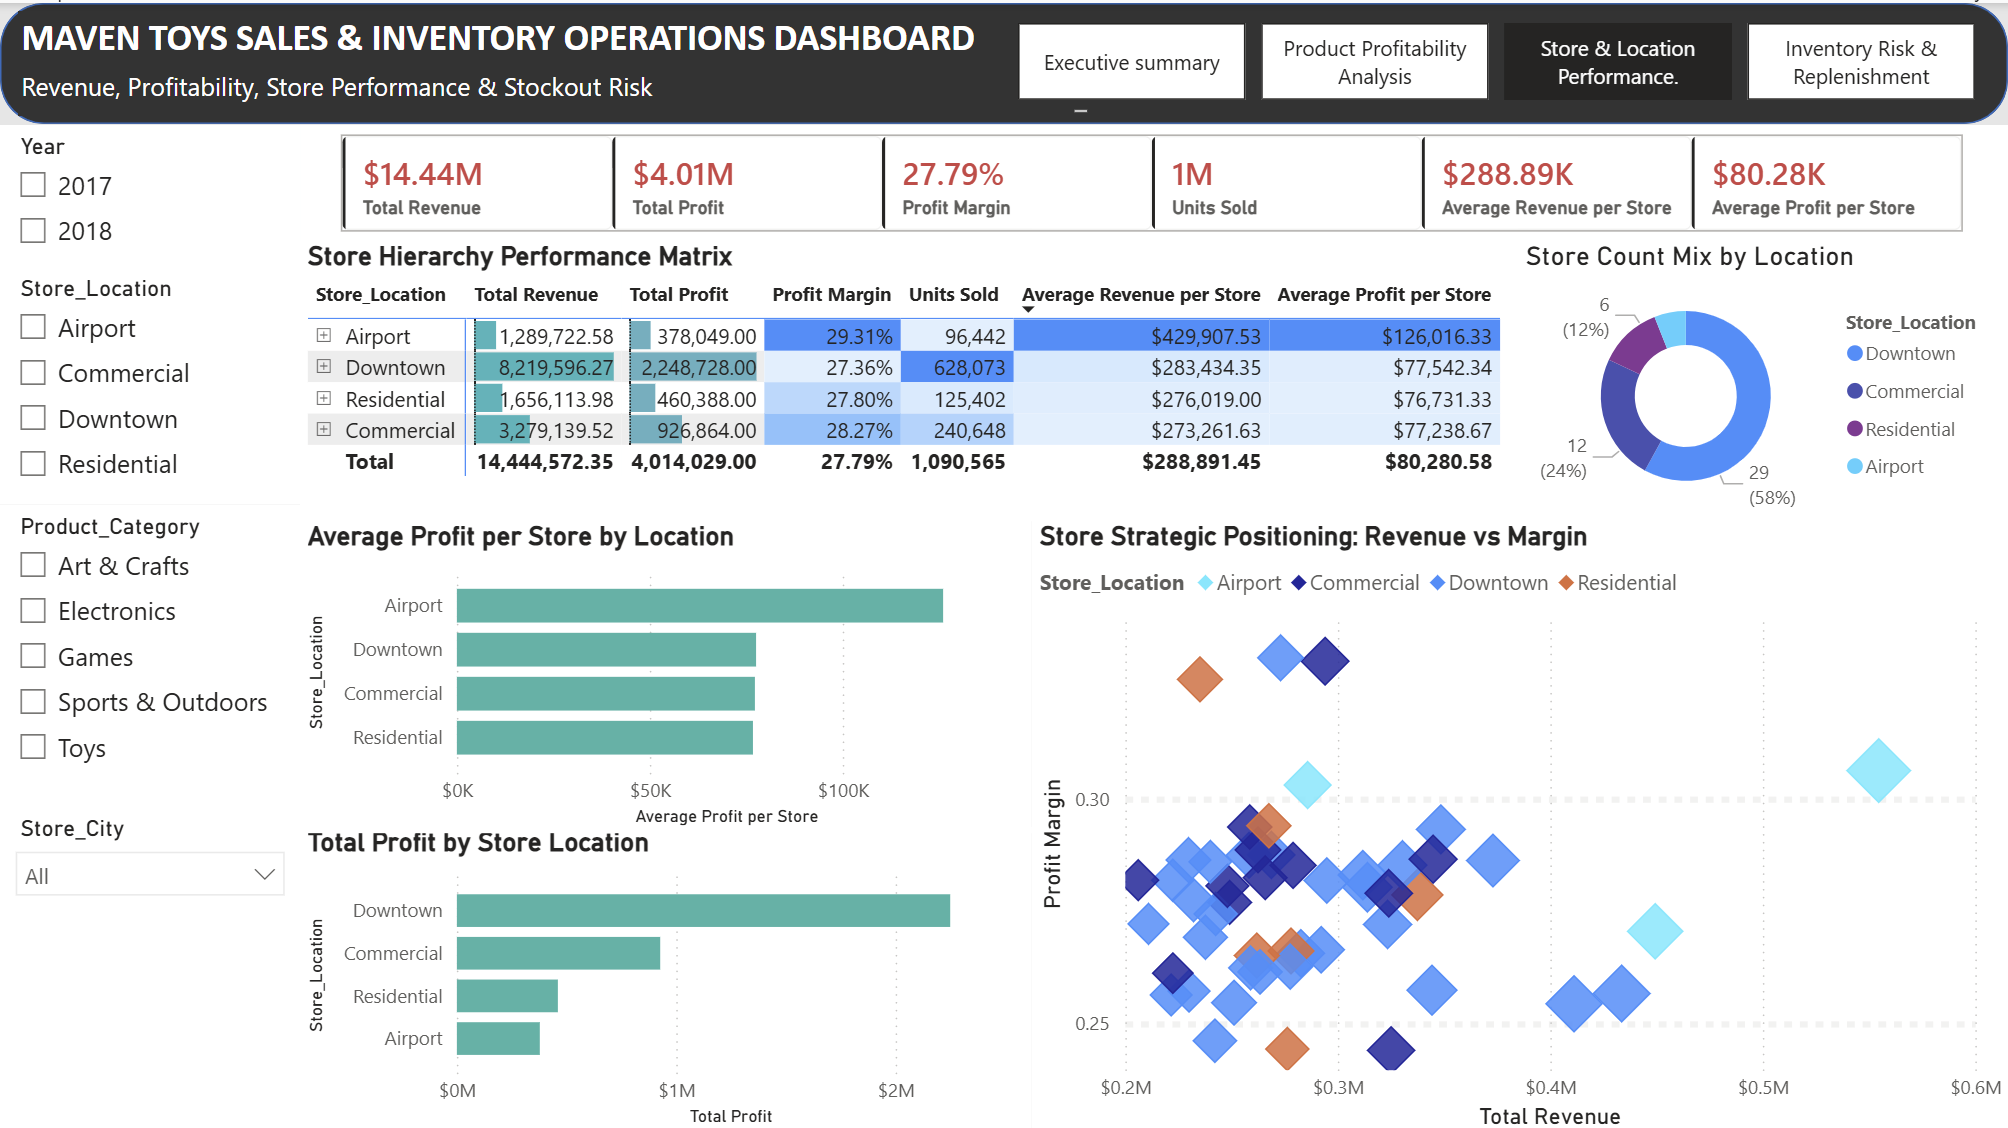

The dashboard page shown, as its layout file describes it:
{"tool":"powerbi","page":{"name":"Store & Location Performance.","canvas":[1280,720],"ordinal":2},"visuals":[{"type":"shape","box":[0,0,1280,77.1],"z":0},{"type":"slicer","fields":{"Values":["DimStore.Store_City"]},"box":[0,512.9,191.4,207.1],"z":1000},{"type":"slicer","fields":{"Values":["DimStore.Store_Location"]},"box":[0,168.8,191.2,151.2],"z":2000},{"type":"cardVisual","fields":{"Data":["vw_sales_profit.Total Revenue","vw_sales_profit.Total Profit","vw_sales_profit.Profit Margin","vw_sales_profit.Units Sold","vw_sales_profit.Average Revenue per Store","vw_sales_profit.Average Profit per Store"]},"box":[191.4,77.1,1091.4,74.3],"z":3000},{"type":"slicer","fields":{"Values":["DimDate.Year"]},"box":[0,77.5,191.2,91.2],"z":4000},{"type":"slicer","fields":{"Values":["DimProduct.Product_Category"]},"box":[0,320,191.2,192.5],"z":5000},{"type":"pivotTable","title":"Store Hierarchy Performance Matrix","fields":{"Rows":["DimStore.Store Hierarchy.Store_Location","DimStore.Store Hierarchy.Store_City","DimStore.Store Hierarchy.Store_Name"],"Values":["vw_sales_profit.Total Revenue","vw_sales_profit.Total Profit","vw_sales_profit.Profit Margin","vw_sales_profit.Units Sold","vw_sales_profit.Average Revenue per Store","vw_sales_profit.Average Profit per Store"]},"box":[191.1,151.3,776.9,178.6],"z":6000},{"type":"clusteredBarChart","title":"Total Profit by Store Location","fields":{"Category":["DimStore.Store_Location"],"Y":["vw_sales_profit.Total Profit"]},"box":[191.2,525.3,466.6,195.1],"z":7000},{"type":"clusteredBarChart","title":"Average Profit per Store by Location","fields":{"Category":["DimStore.Store_Location"],"Y":["vw_sales_profit.Average Profit per Store"]},"box":[191.1,329.9,466.4,199.1],"z":8000},{"type":"scatterChart","title":"Store Strategic Positioning: Revenue vs Margin","fields":{"X":["vw_sales_profit.Total Revenue"],"Y":["vw_sales_profit.Profit Margin"],"Size":["vw_sales_profit.Units Sold"],"Category":["DimStore.Store_Name"],"Series":["DimStore.Store_Location"]},"box":[657.4,329.9,623.3,392.4],"z":9000},{"type":"donutChart","title":"Store Count Mix by Location","fields":{"Category":["DimStore.Store_Location"],"Y":["DimStore.Store Count"]},"box":[968,151.3,313.9,178.6],"z":10000},{"type":"textbox","title":"MAVEN TOYS SALES & INVENTORY OPERATIONS DASHBOARD","box":[11.5,5.1,683.3,66.3],"z":11000},{"type":"pageNavigator","box":[648.9,12.7,613.2,49.7],"z":12000}]}

Visuals, with their boxes in screenshot pixels (x1, y1, x2, y2), scaled from the page's 1280x720 canvas onto the 2008x1128 screenshot:
shape: (0,0,2007,121)
slicer - DimStore.Store_City: (0,804,300,1127)
slicer - DimStore.Store_Location: (0,264,300,501)
cardVisual - vw_sales_profit.Total Revenue x vw_sales_profit.Total Profit: (300,121,2007,237)
slicer - DimDate.Year: (0,121,300,264)
slicer - DimProduct.Product_Category: (0,501,300,803)
"Store Hierarchy Performance Matrix" pivotTable: (300,237,1519,517)
"Total Profit by Store Location" clusteredBarChart: (300,823,1032,1127)
"Average Profit per Store by Location" clusteredBarChart: (300,517,1031,829)
"Store Strategic Positioning: Revenue vs Margin" scatterChart: (1031,517,2007,1127)
"Store Count Mix by Location" donutChart: (1519,237,2007,517)
"MAVEN TOYS SALES & INVENTORY OPERATIONS DASHBOARD" textbox: (18,8,1090,112)
pageNavigator: (1018,20,1980,98)
